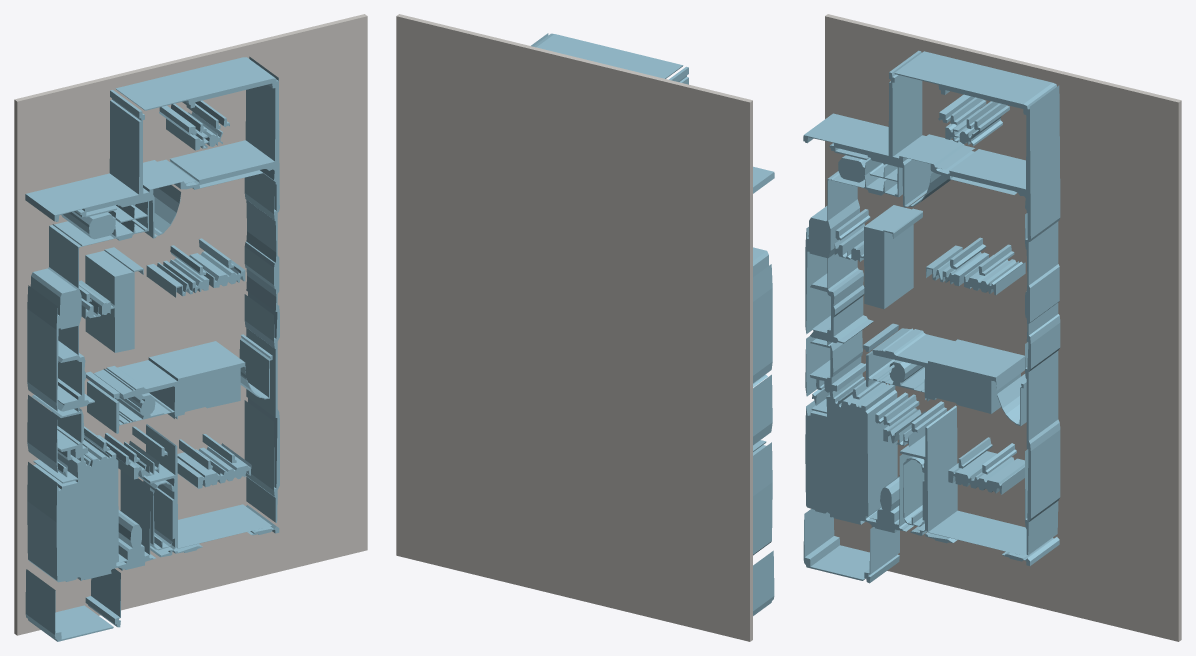
3 renders of one model, left to right at view 1: azimuth 30°, elevation 25°; view 2: azimuth 150°, elevation 25°; view 3: azimuth 330°, elevation 25°, orthographic.
Parts seen in each view (by area): view 1: world; view 2: world; view 3: world.
Part boxes in pixels (<box>): world: <box>14,14,367,641</box>; world: <box>396,14,774,641</box>; world: <box>803,14,1181,641</box>.
Bounding box in the file's own units: 10.23 × 14.9 × 1.63.
